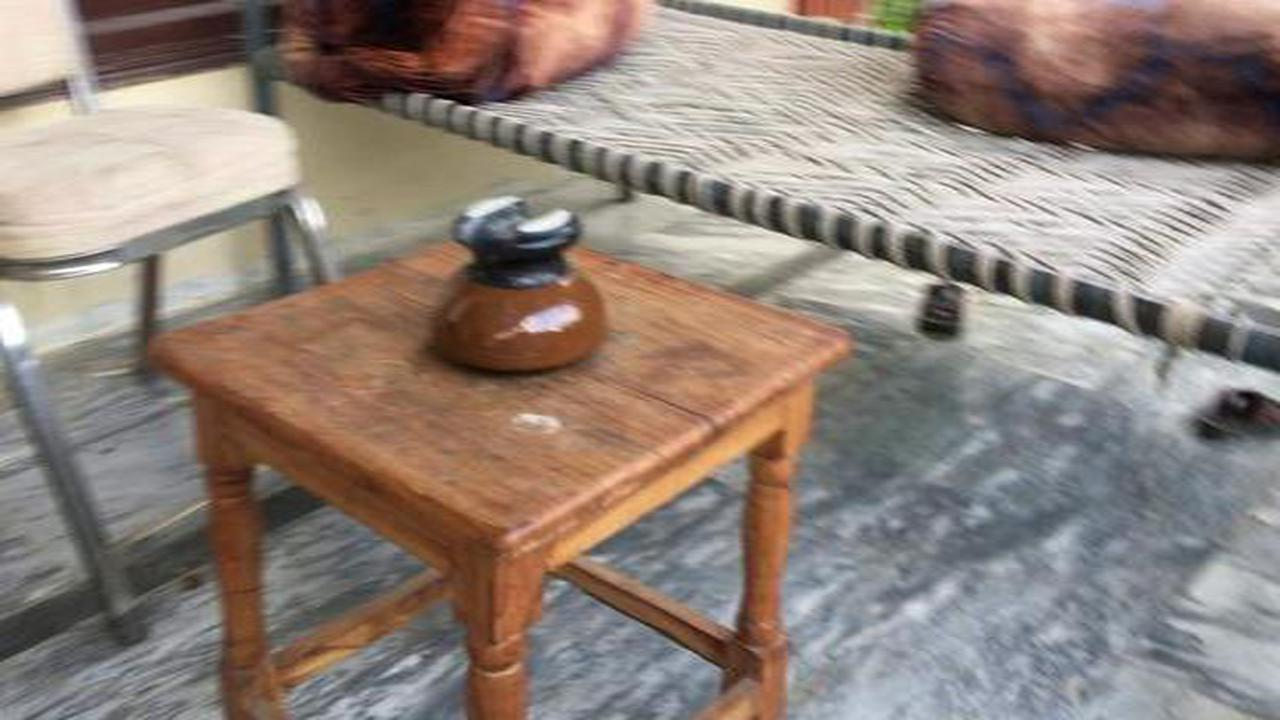insulator_pin: (413, 180, 634, 388)
